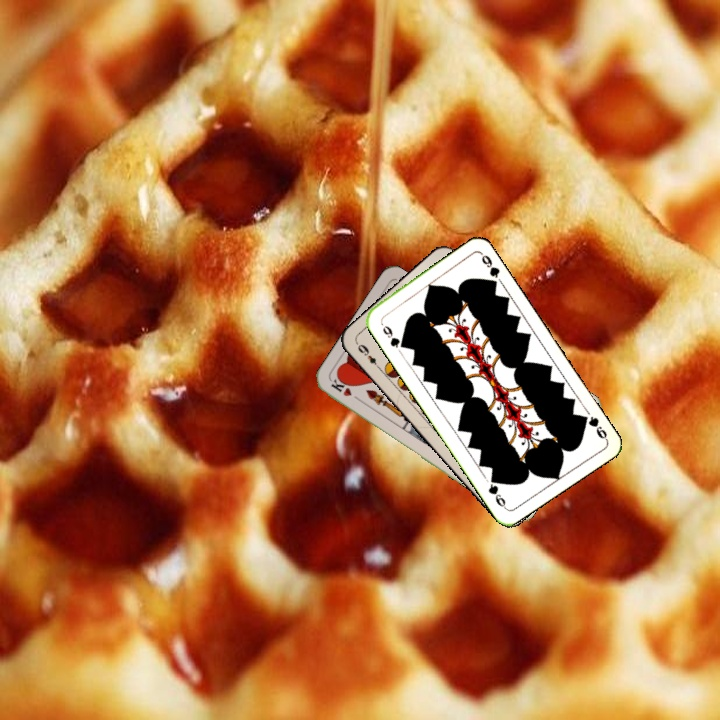E9: (353, 339, 384, 373)
G9: (576, 411, 610, 442), (378, 321, 408, 351)
HK: (327, 375, 364, 404)
